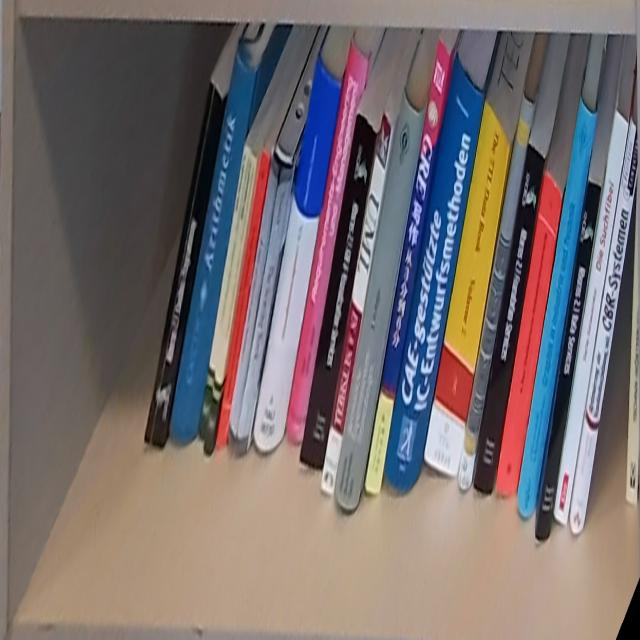Book Spine: (382, 52, 488, 497), (334, 88, 427, 513), (366, 36, 449, 497), (252, 53, 344, 453), (169, 39, 258, 446), (283, 35, 370, 449), (420, 103, 510, 480), (552, 106, 631, 531), (517, 95, 596, 518), (456, 91, 533, 492), (142, 80, 223, 454), (318, 111, 395, 499), (569, 112, 639, 532), (300, 115, 378, 472), (474, 144, 545, 496), (538, 180, 604, 541), (495, 172, 563, 496), (225, 153, 294, 456), (203, 152, 258, 459), (216, 145, 271, 448), (198, 144, 252, 442), (626, 186, 640, 506)
